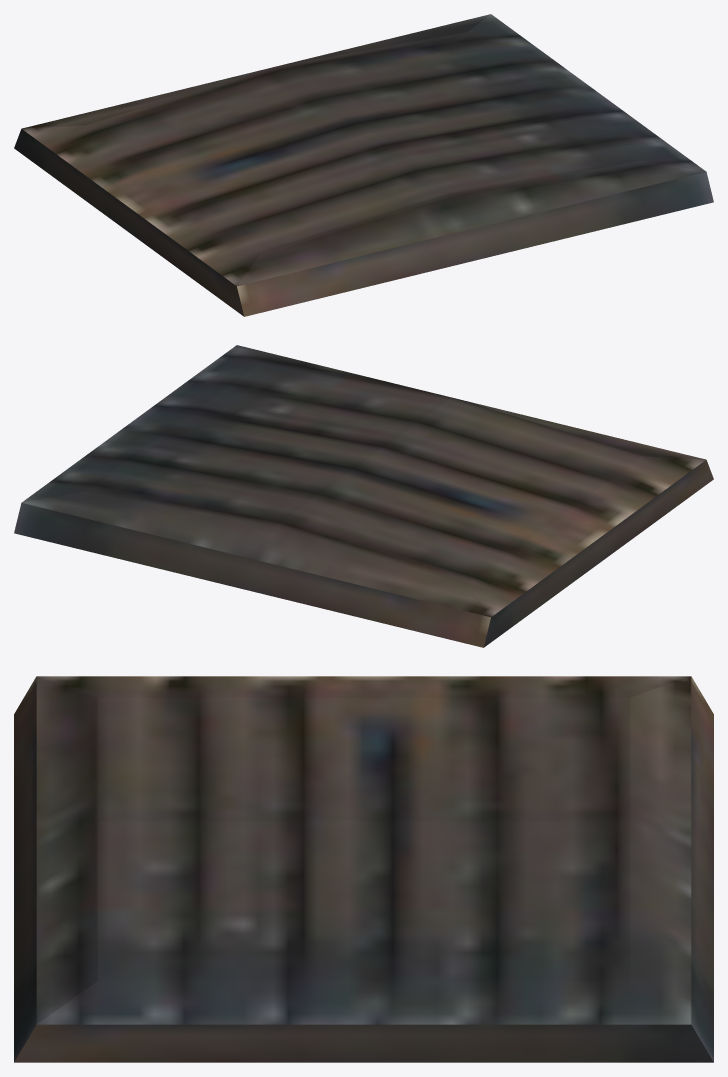
The model's file is dumpster_lid_2.fbx.
The picture shows the model from 3 angles, top to bottom: view 1: azimuth 30°, elevation 25°; view 2: azimuth 150°, elevation 25°; view 3: azimuth 270°, elevation 25°; orthographic projection. The views are drawn at different scales.
Visible parts, largest first — view 1: dumpster_lid_2; view 2: dumpster_lid_2; view 3: dumpster_lid_2.
Part boxes in pixels (left/top/right/bottom): dumpster_lid_2: left=14, top=14, right=713, bottom=316; dumpster_lid_2: left=14, top=345, right=713, bottom=647; dumpster_lid_2: left=14, top=676, right=713, bottom=1062.
Bounding box in the file's own units: 193 × 17.52 × 164.
Materials: 1 (1 with a texture image).
